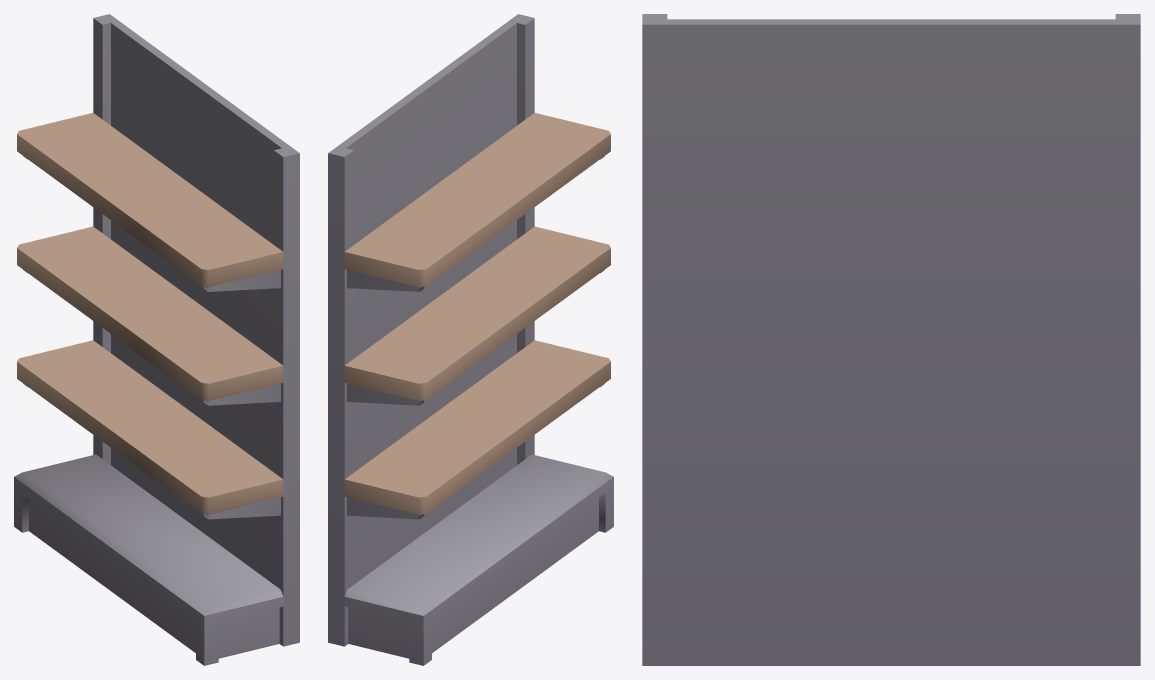
Rendered from retail-shelf-wide.glb.
3 views of the same model, side by side, from view 1: azimuth 30°, elevation 25°; view 2: azimuth 150°, elevation 25°; view 3: azimuth 270°, elevation 25° (orthographic). The views are drawn at different scales.
Parts seen in each view (by area): view 1: retail-shelf-wide; view 2: retail-shelf-wide; view 3: retail-shelf-wide.
Boxes of the visible parts, bbox=[...] form: retail-shelf-wide: bbox=[14, 14, 299, 665]; retail-shelf-wide: bbox=[328, 14, 613, 665]; retail-shelf-wide: bbox=[642, 14, 1140, 665].
Bounding box in the file's own units: 0.29 × 1.42 × 1.
